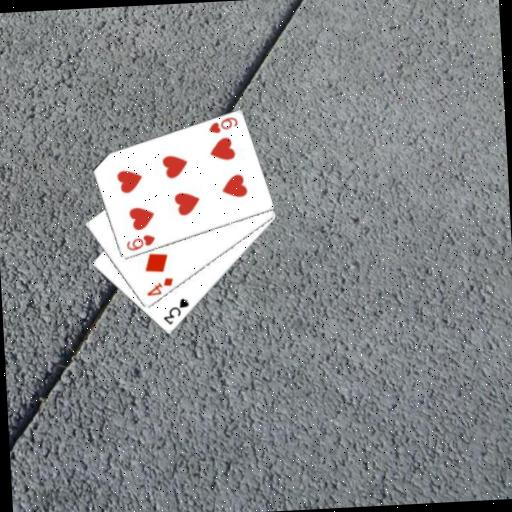3S: (160, 295, 192, 327)
4D: (143, 274, 176, 298)
6H: (122, 231, 157, 253), (205, 114, 240, 136)
